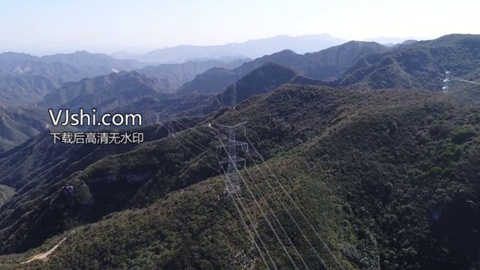tower_body: (215, 116, 252, 207)
tower_foot: (223, 179, 241, 203)
tower_head: (217, 120, 250, 135)
